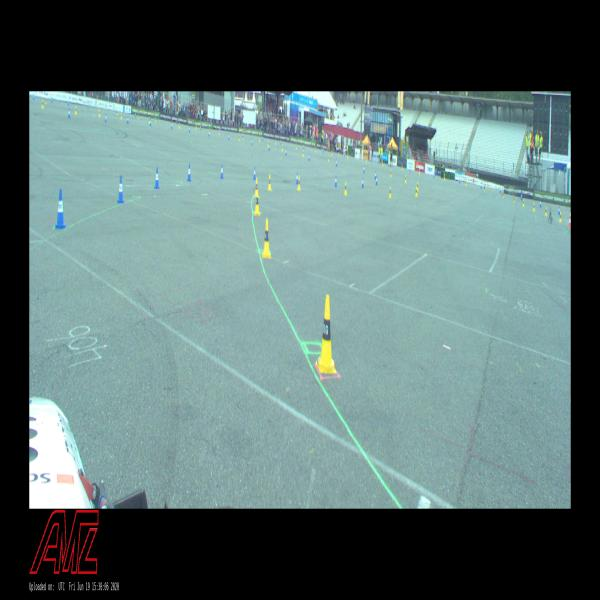blue_cone: (56, 189, 66, 228), (118, 176, 124, 203), (154, 168, 160, 189), (187, 164, 191, 180), (220, 164, 224, 178), (254, 168, 256, 179), (362, 177, 364, 188), (335, 176, 337, 186), (296, 173, 298, 183), (68, 108, 70, 118), (285, 147, 287, 156), (558, 206, 560, 214), (105, 114, 107, 122), (308, 153, 310, 161), (127, 116, 129, 123), (171, 122, 173, 129), (363, 166, 365, 173), (251, 139, 253, 145), (228, 134, 230, 140), (376, 176, 377, 185), (540, 200, 541, 208), (375, 171, 376, 179), (336, 159, 337, 166), (521, 193, 522, 200), (189, 126, 190, 132), (269, 144, 270, 150)
large_orange_cone: (568, 212, 570, 228)
yellow_cone: (316, 295, 337, 374), (262, 219, 271, 258), (254, 192, 260, 216), (254, 179, 258, 197), (268, 174, 271, 191), (558, 211, 562, 223), (344, 182, 347, 195), (532, 202, 536, 211), (544, 207, 548, 216), (415, 187, 418, 197), (298, 177, 300, 190), (389, 186, 391, 198), (417, 181, 419, 191), (98, 108, 100, 117), (464, 180, 467, 185), (302, 150, 304, 157), (483, 185, 485, 192), (522, 200, 524, 206), (513, 196, 515, 202), (501, 192, 503, 198), (390, 169, 391, 177), (121, 112, 122, 120), (405, 175, 406, 183), (328, 155, 329, 162), (75, 106, 76, 113), (282, 144, 283, 151), (155, 116, 156, 123), (382, 160, 383, 167), (239, 134, 240, 140), (275, 140, 276, 146), (179, 122, 180, 128), (402, 164, 403, 170), (315, 148, 316, 154), (243, 134, 244, 140), (331, 150, 332, 156), (296, 144, 297, 149), (268, 142, 268, 146)
